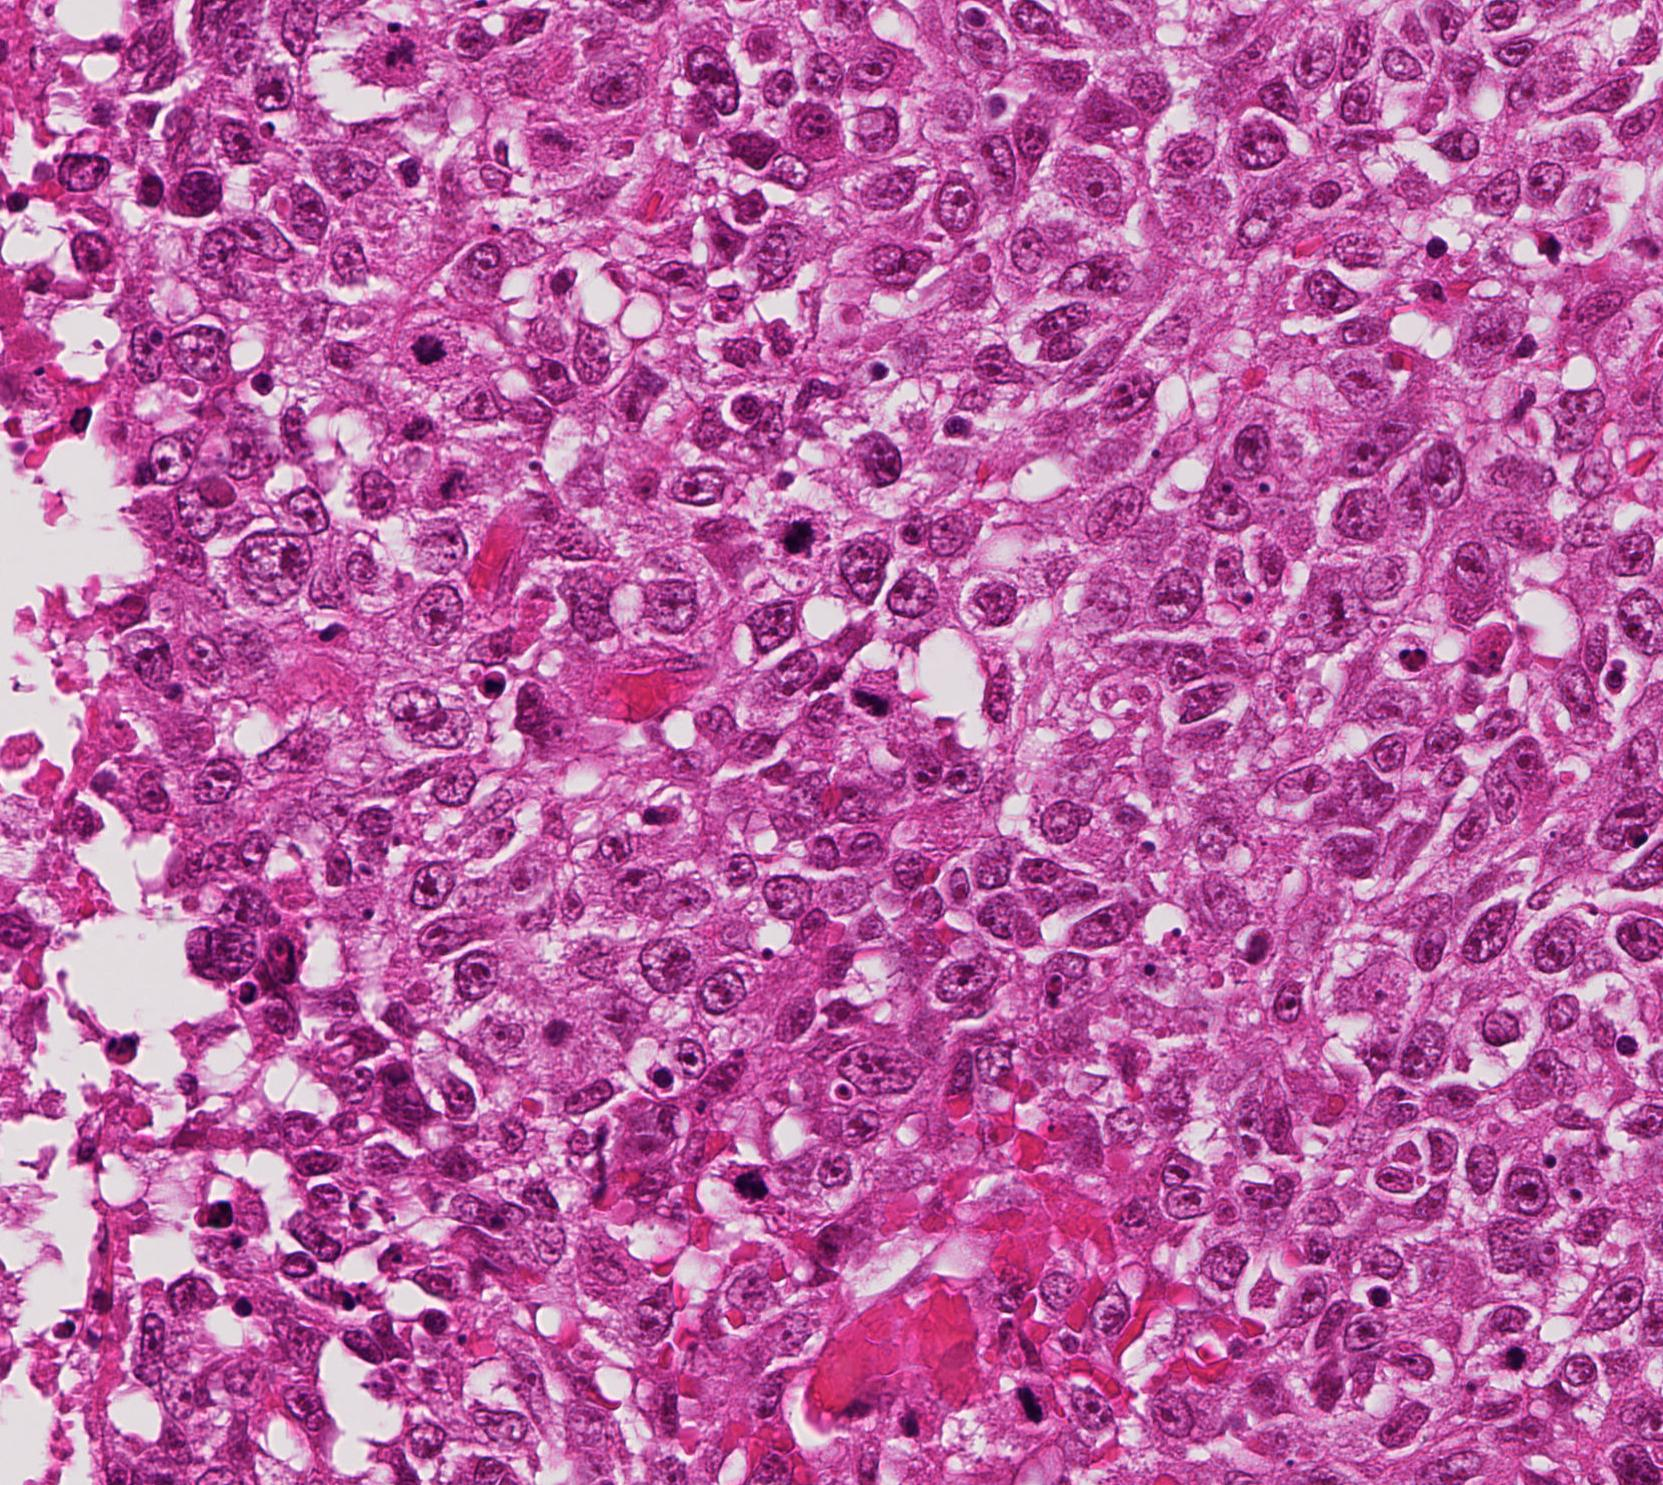mitosis: (771, 503, 831, 563), (399, 315, 457, 376)
